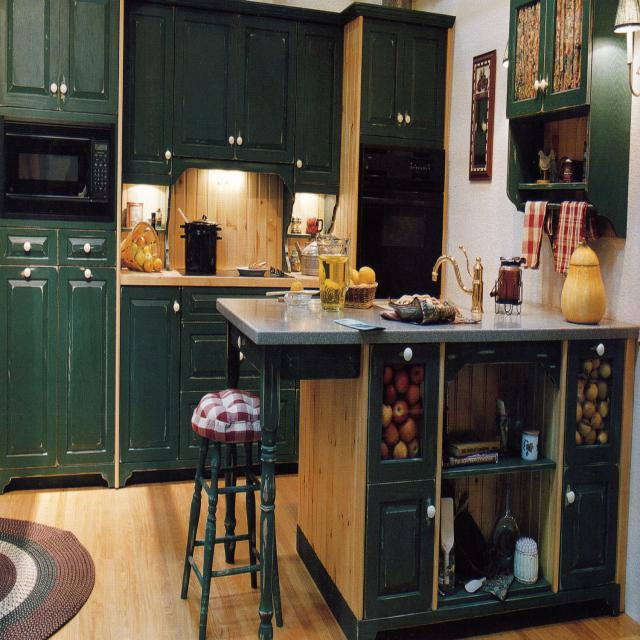cupboard crop: (127, 6, 344, 183), (361, 20, 450, 141)
cupboard occluded: (59, 261, 113, 469), (367, 342, 445, 480), (0, 4, 58, 109), (506, 3, 546, 118)
faucet handle: (425, 234, 486, 312)
knob: (294, 151, 302, 168)
light fixture: (611, 1, 640, 96)
microwave oven: (2, 120, 115, 220)
mirror crop: (465, 45, 494, 182)
oven cloth: (360, 143, 442, 294)
pot hanger: (182, 216, 218, 280)
rug occluded: (2, 519, 90, 636)
stool crop: (180, 390, 278, 632)
teatowel: (515, 202, 546, 265)
